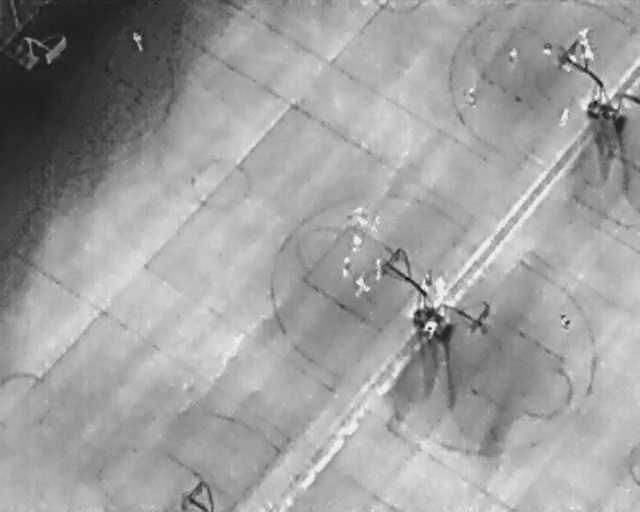Person: (558, 51, 580, 75), (418, 319, 439, 343), (129, 28, 146, 54), (353, 274, 370, 298), (556, 106, 573, 129), (504, 46, 520, 68), (466, 84, 479, 110), (433, 276, 447, 299), (420, 272, 434, 294), (354, 207, 370, 225), (349, 232, 362, 254), (540, 39, 555, 57), (578, 28, 591, 47), (341, 256, 351, 280), (557, 311, 573, 326), (582, 44, 595, 61), (374, 259, 382, 283)
